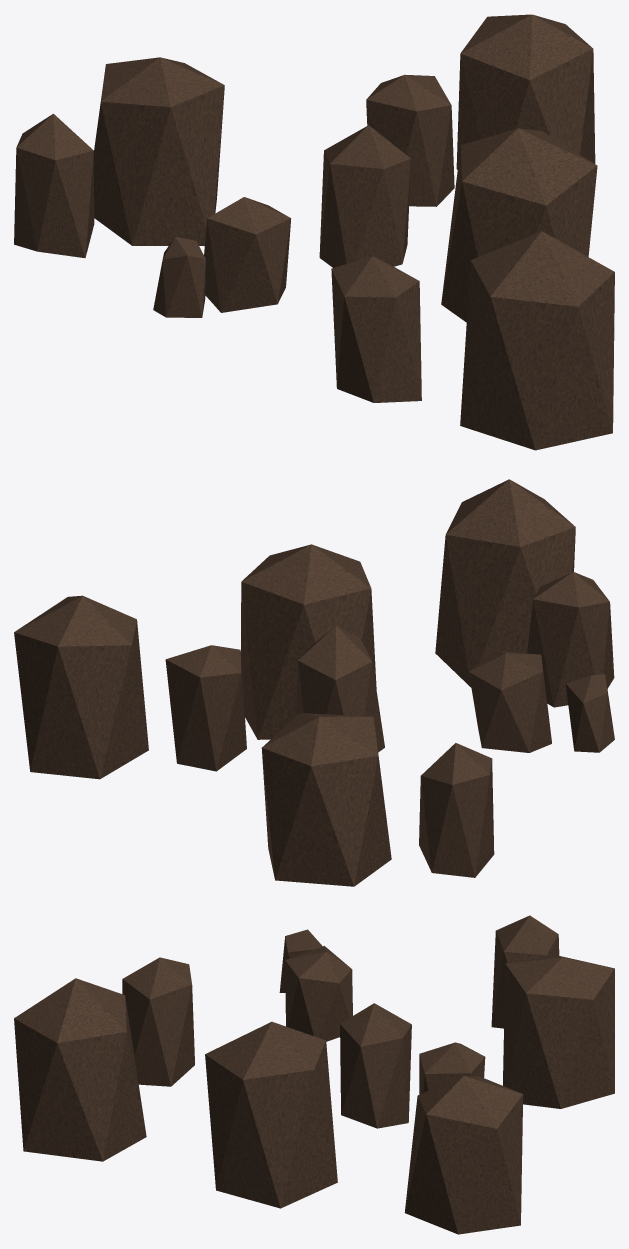
File: hillTree10cob.obj
3 renders of one model, top to bottom at view 1: azimuth 30°, elevation 25°; view 2: azimuth 150°, elevation 25°; view 3: azimuth 270°, elevation 25°, orthographic. The views are drawn at different scales.
Parts seen in each view (by area): view 1: Icosphere.001; view 2: Icosphere.001; view 3: Icosphere.001.
Boxes of the visible parts, left/top/right/bottom form: Icosphere.001: left=14, top=14, right=614, bottom=450; Icosphere.001: left=14, top=479, right=614, bottom=886; Icosphere.001: left=14, top=915, right=614, bottom=1234.
Bounding box in the file's own units: 3.43 × 1.2 × 4.01.
1 material, 1 textured.
